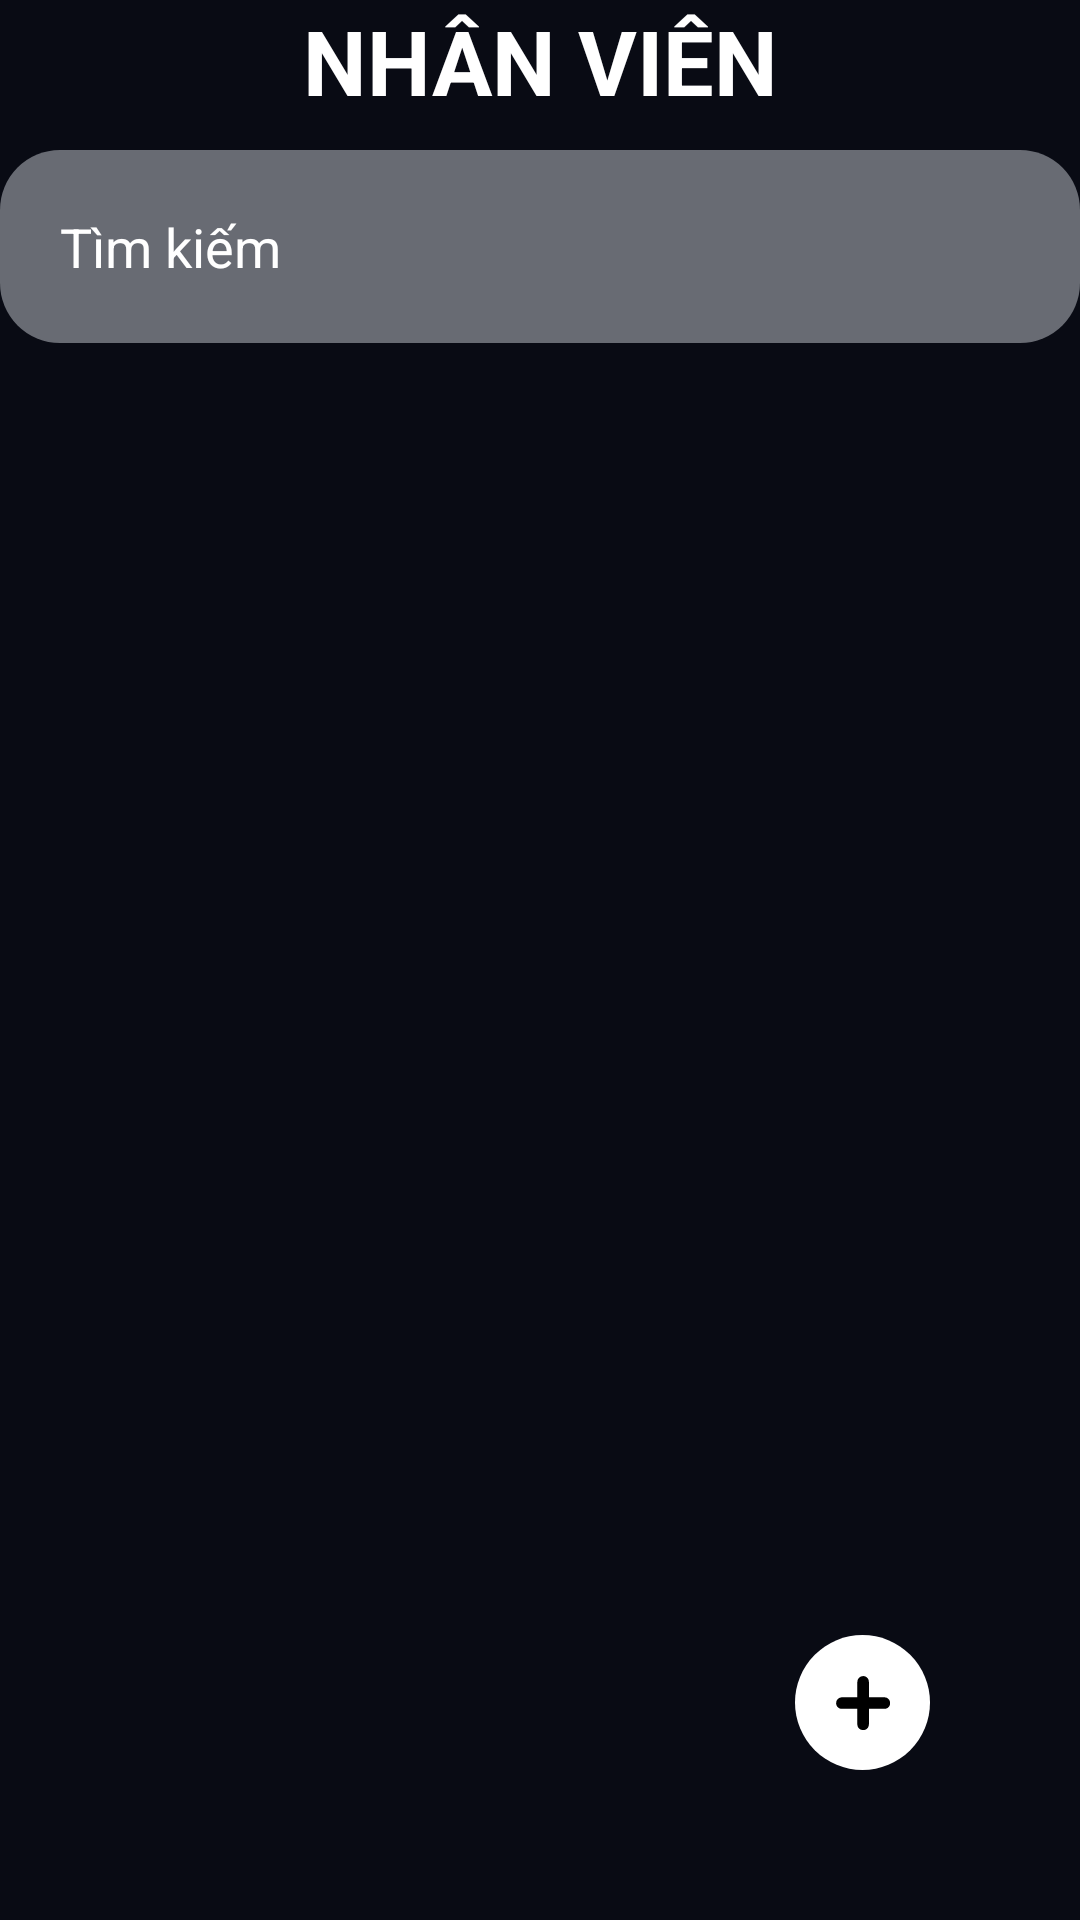

Locate icon controls on the screen. Image size 1080x1920, boxes as (x1, y1, x2, y2).
add: (795, 1635, 930, 1770)
